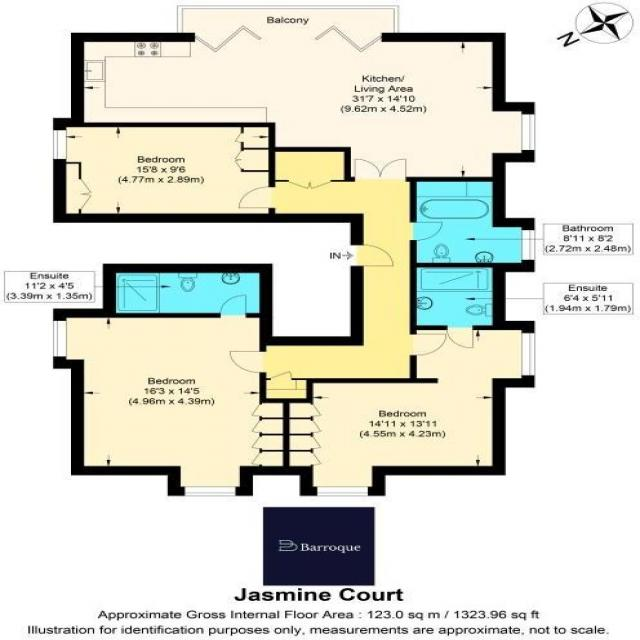DOOR: (350, 243, 395, 268), (228, 350, 268, 374), (409, 333, 448, 357), (237, 186, 277, 209), (218, 293, 248, 318), (409, 221, 444, 242), (446, 325, 475, 349)
DOUBLE DOOR: (350, 154, 411, 182)
FOLDING DOOR: (186, 19, 271, 57), (307, 22, 388, 55)
ROOM: (70, 24, 536, 182), (53, 294, 290, 497), (282, 321, 535, 497), (52, 118, 276, 223)
WINDOW: (521, 332, 536, 377), (520, 113, 536, 151), (315, 486, 369, 497), (183, 486, 237, 497), (52, 320, 67, 358), (521, 229, 536, 261), (52, 129, 67, 160)
